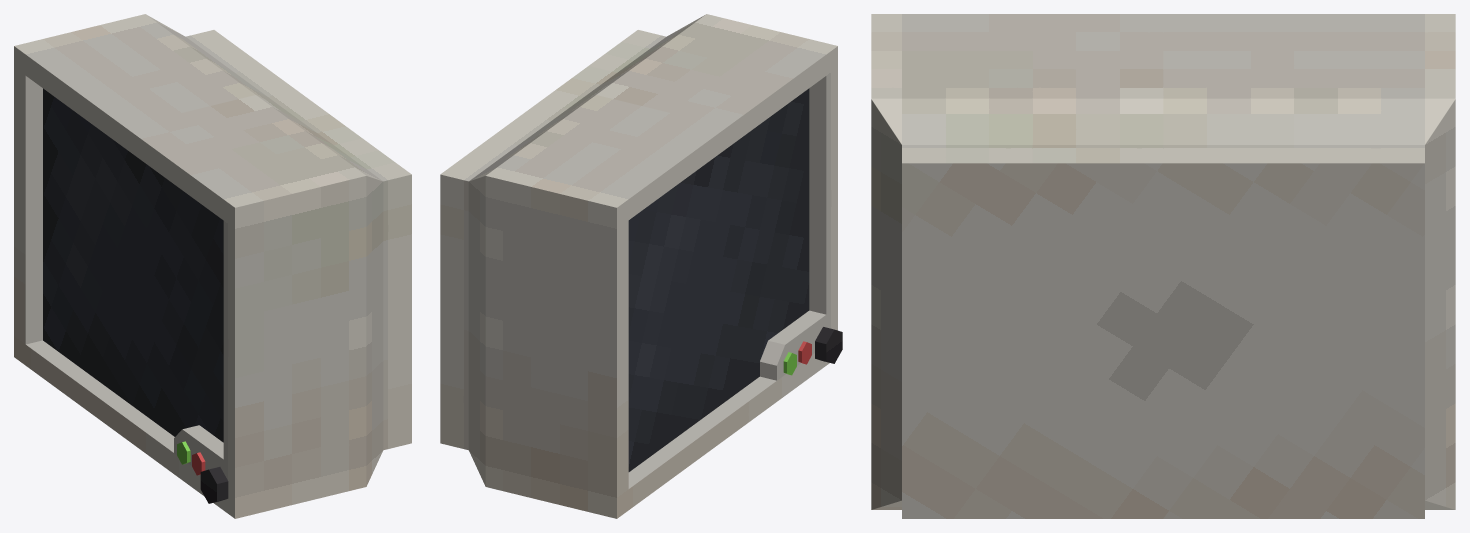
File: BoatMonitor.fbx
3 renders of one model, left to right at view 1: azimuth 30°, elevation 25°; view 2: azimuth 150°, elevation 25°; view 3: azimuth 270°, elevation 25°, orthographic. The views are drawn at different scales.
Parts seen in each view (by area): view 1: Monitor; view 2: Monitor; view 3: Monitor.
Boxes of the visible parts, bbox=[...] form: Monitor: bbox=[14, 14, 411, 518]; Monitor: bbox=[440, 14, 842, 518]; Monitor: bbox=[871, 14, 1455, 518].
Bounding box in the file's own units: 43.75 × 65.09 × 83.84.
Materials: 1 (1 with a texture image).
